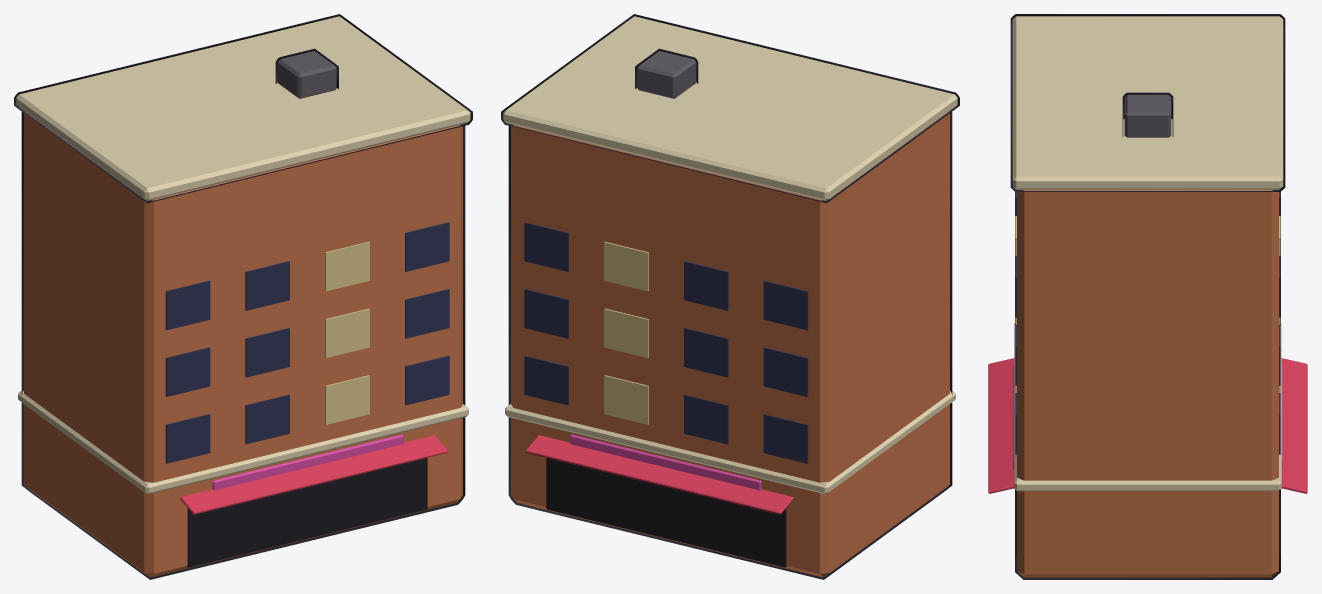
Rendered from building_a.glb.
3 views of the same model, side by side, from view 1: azimuth 30°, elevation 25°; view 2: azimuth 150°, elevation 25°; view 3: azimuth 270°, elevation 25° (orthographic). The views are drawn at different scales.
Parts seen in each view (by area): view 1: building_a; view 2: building_a; view 3: building_a.
Part boxes in pixels (bbox=[...]): building_a: bbox=[14, 14, 472, 579]; building_a: bbox=[501, 14, 959, 579]; building_a: bbox=[988, 14, 1307, 579].
Bounding box in the file's own units: 13.44 × 16.44 × 10.98.
